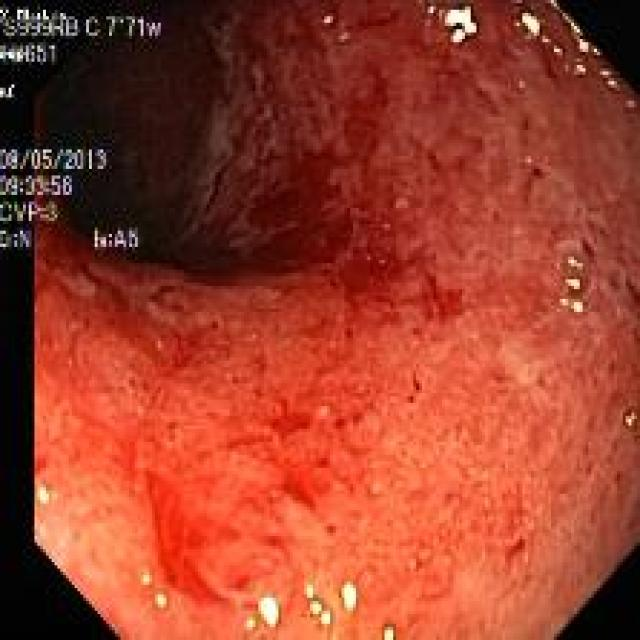ulcerative-colitis-grade-3: (36, 3, 640, 640)
